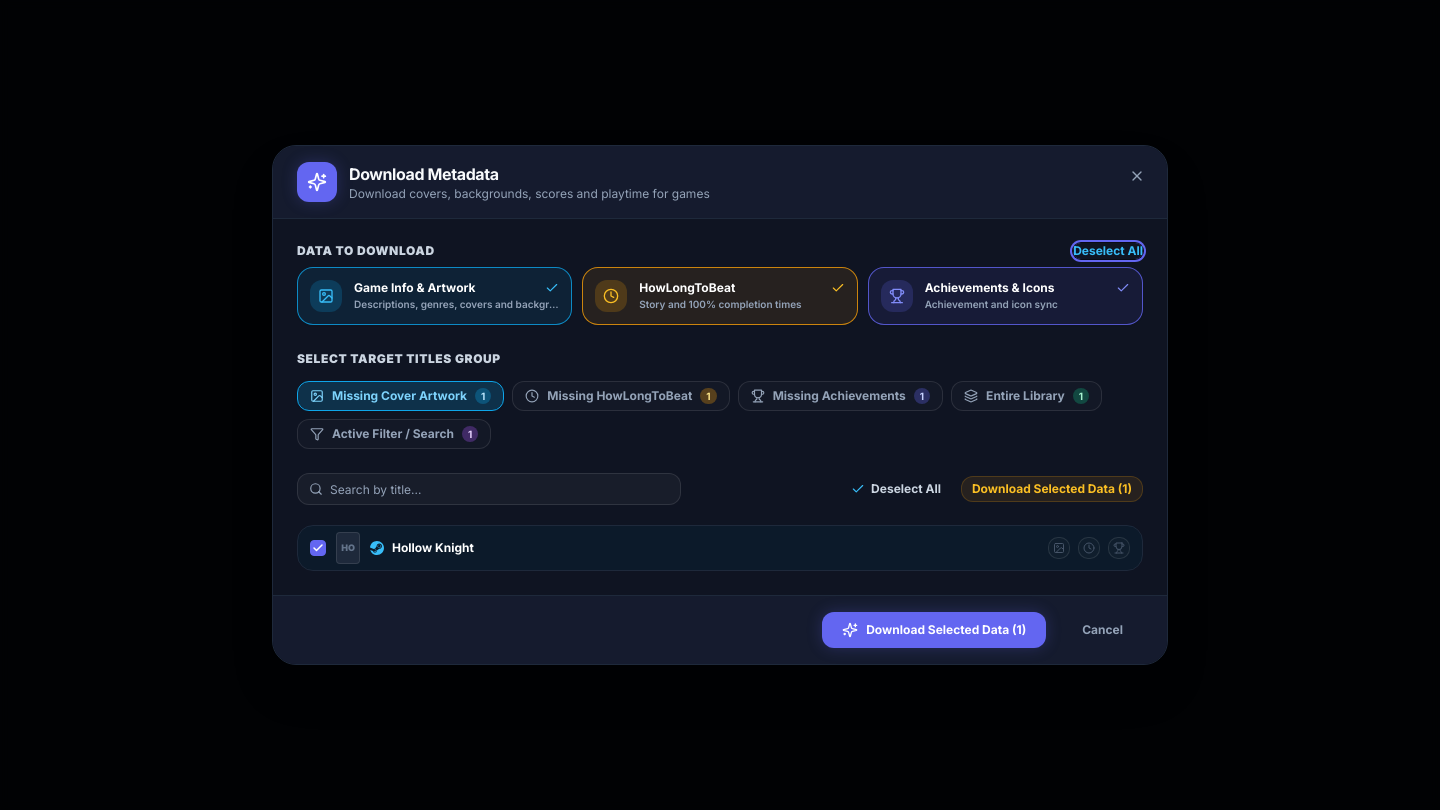
Scenario: BatchEnrichModal background IPC flow › renders Radix Checkbox controls and toggles game selection
Click the checkbox named "Hollow Knight" at (318,548), box [310,540,326,556]
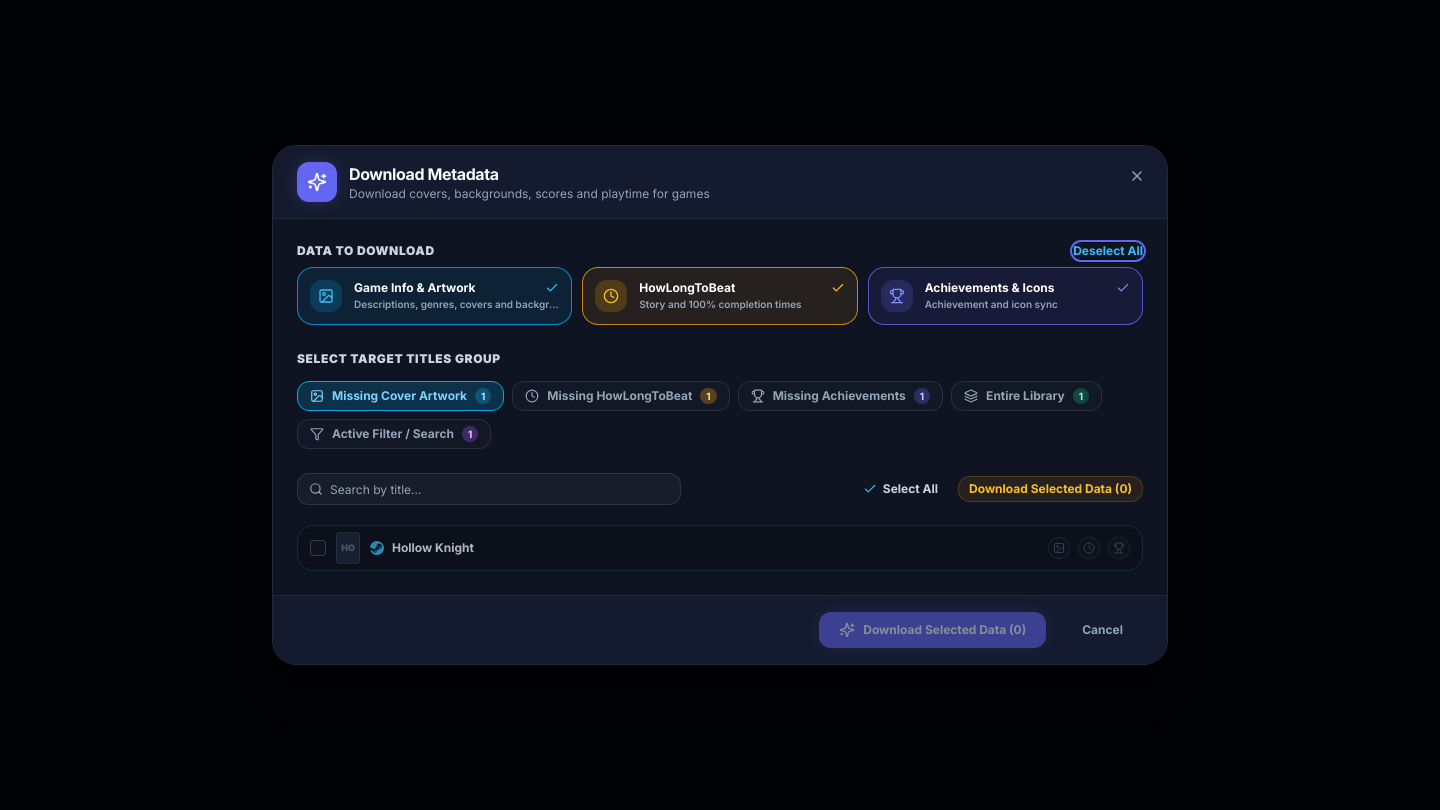
Now the checkbox named "Hollow Knight" has attribute data-state="unchecked", box [310,540,326,556]
